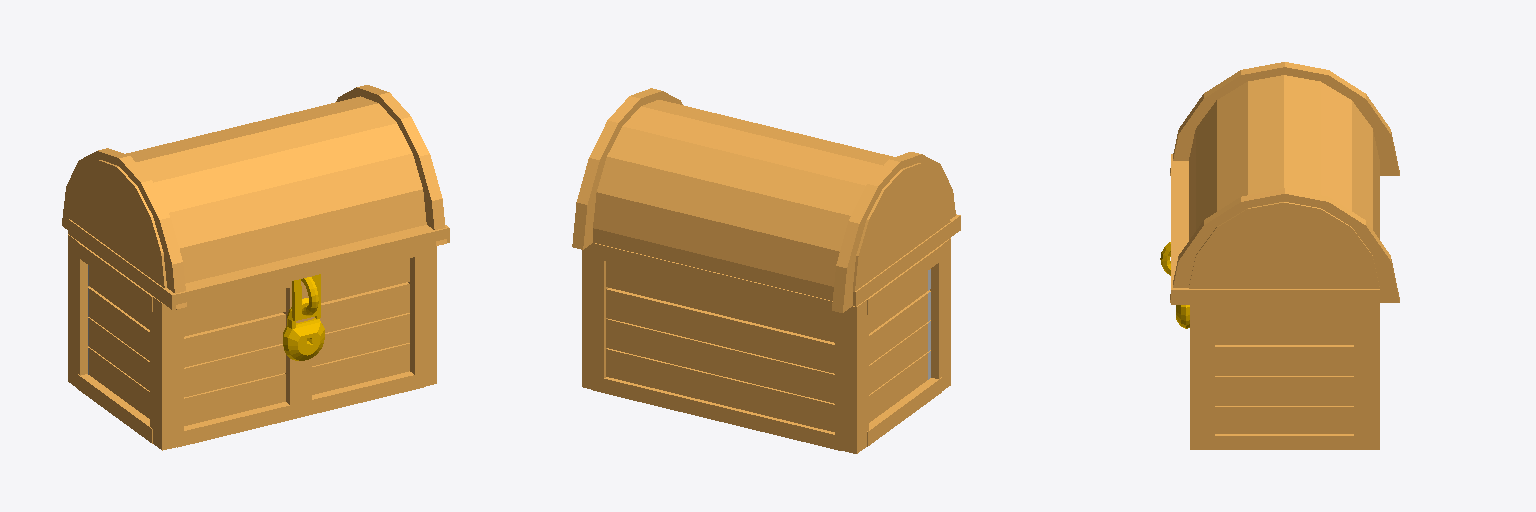
Rendered from NOVELO_CHEST.obj.
3 views of the same model, side by side, from view 1: azimuth 30°, elevation 25°; view 2: azimuth 150°, elevation 25°; view 3: azimuth 270°, elevation 25° (orthographic).
Visible parts, largest first — view 1: Chest.1; view 2: Chest.1; view 3: Chest.1.
Boxes of the visible parts, <box> form: Chest.1: <box>62,85,449,450</box>; Chest.1: <box>572,88,960,453</box>; Chest.1: <box>1160,62,1399,449</box>.
Bounding box in the file's own units: 254 × 224 × 189.